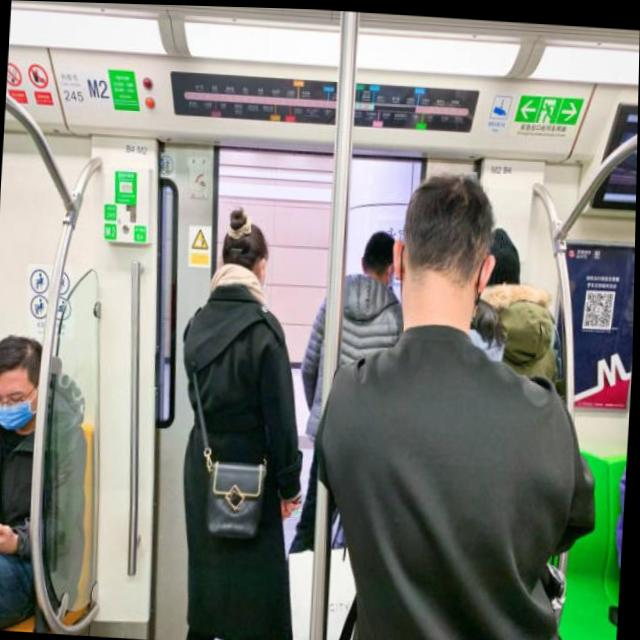no helmet: (396, 171, 500, 341), (218, 201, 271, 300), (361, 225, 397, 279)
